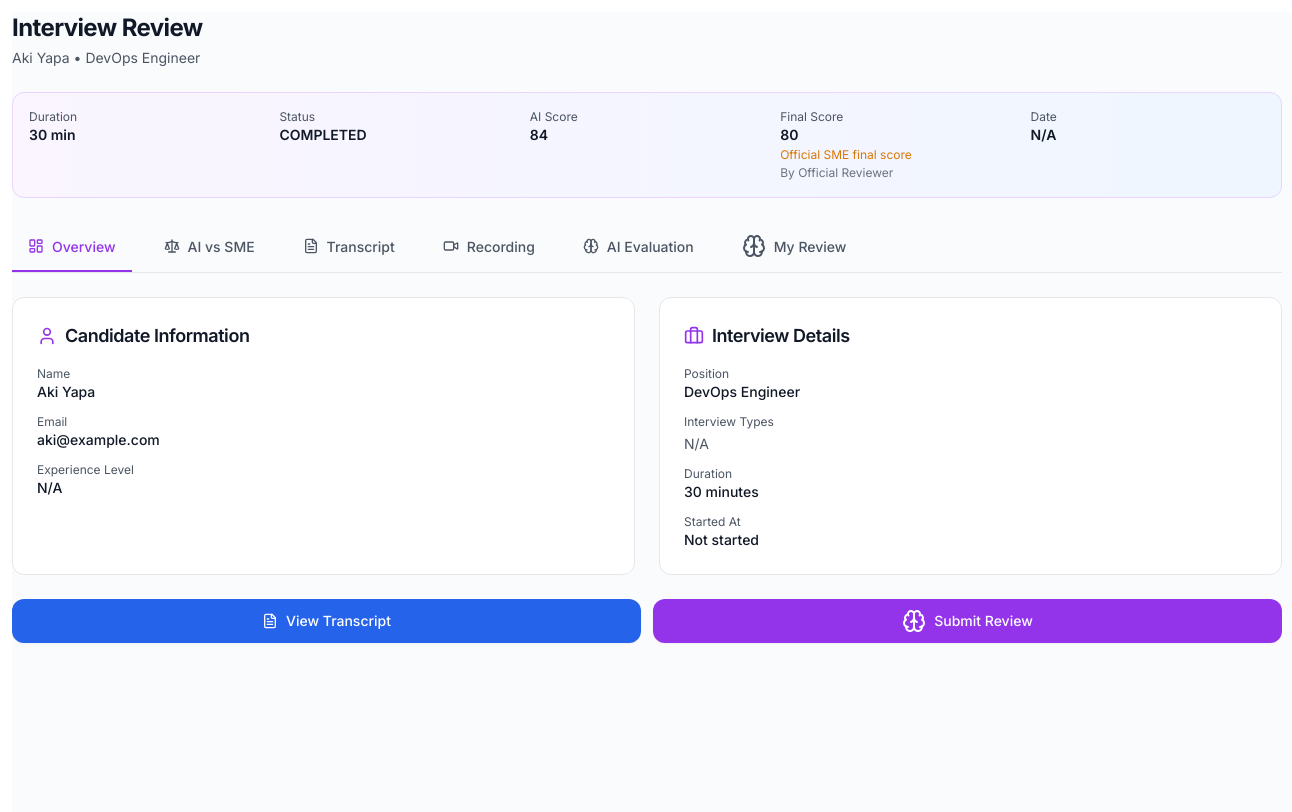
Scenario: InterviewReviewEnhanced role experience › hides the official-score checkbox from peer reviewers when another official reviewer already owns it
Click the button "My Review" at (794, 247), box [726, 222, 862, 272]
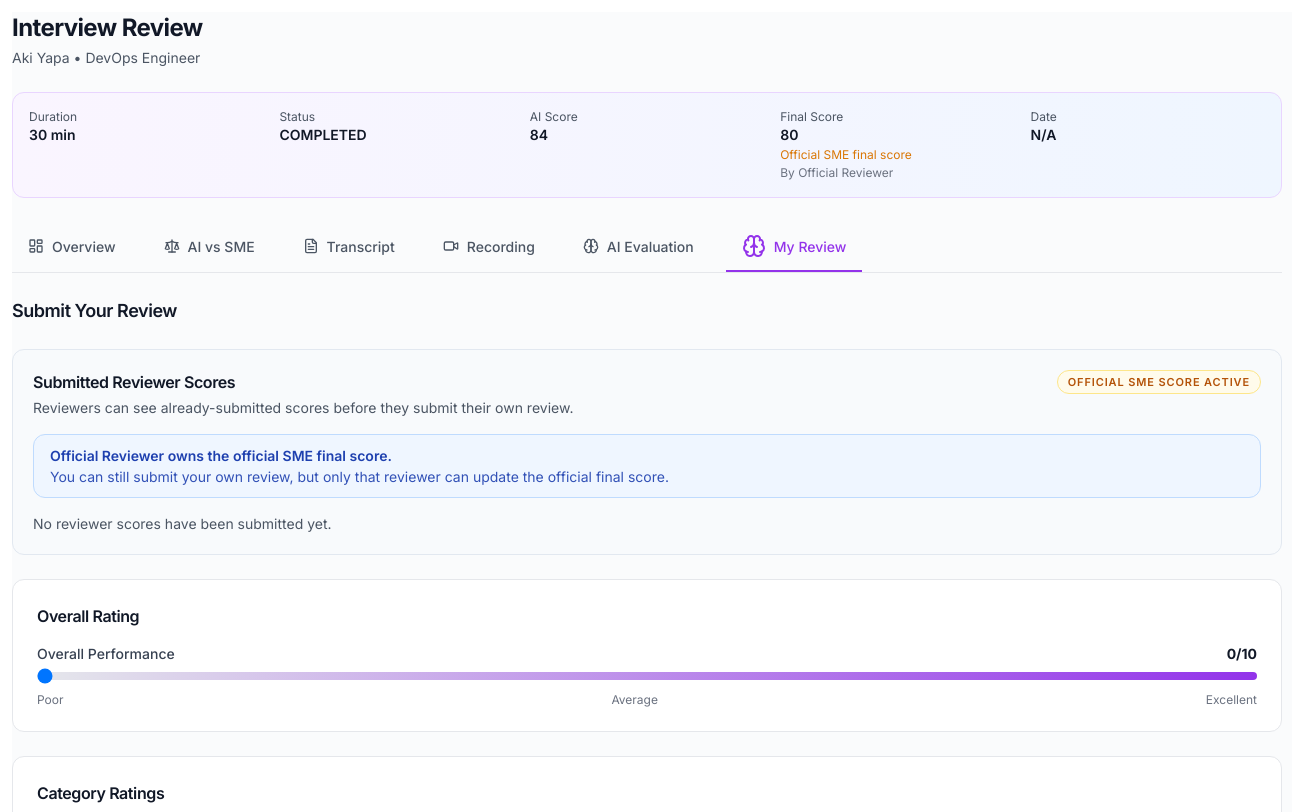
Expected: the text "only that reviewer can update the official final score" is shown, [50, 468, 669, 485]
